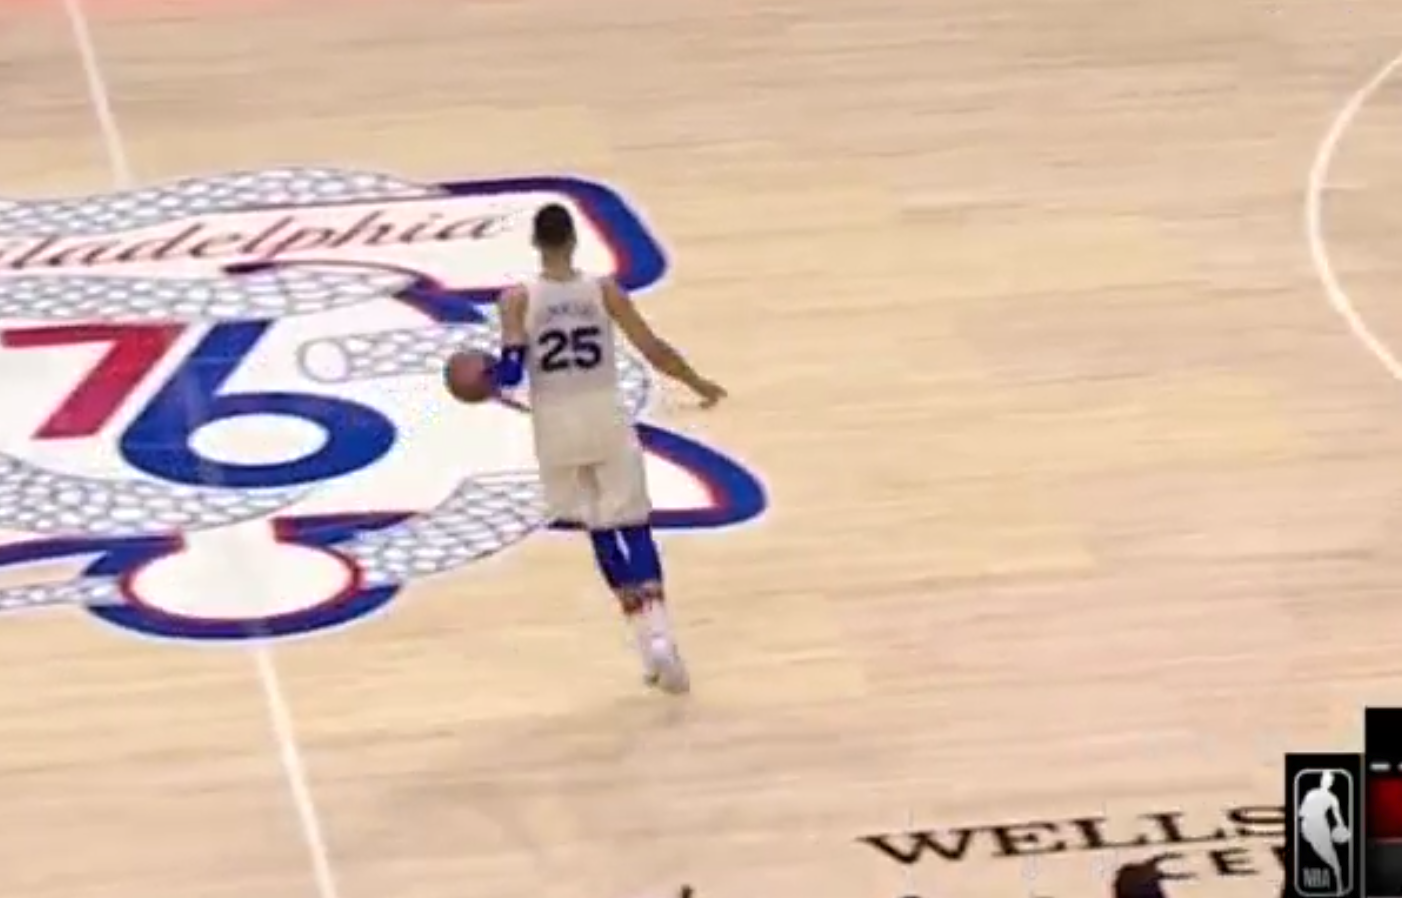ball: (442, 347, 498, 404)
player: (515, 206, 716, 707)
